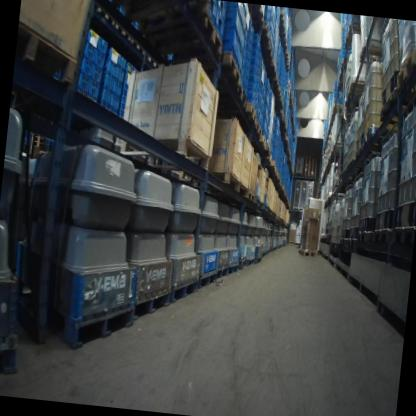pallet: (46, 291, 136, 356), (13, 18, 82, 85), (107, 0, 210, 41), (143, 9, 225, 59), (132, 281, 172, 325), (394, 47, 416, 91), (0, 332, 22, 376), (217, 51, 243, 88), (170, 272, 199, 305), (198, 266, 218, 290), (231, 81, 248, 107), (95, 6, 117, 26), (113, 22, 133, 42), (129, 37, 148, 57), (243, 101, 258, 124), (346, 20, 362, 39), (260, 22, 271, 45), (144, 53, 159, 69), (216, 262, 229, 280), (254, 4, 265, 24), (252, 118, 263, 136), (331, 102, 344, 116), (265, 43, 274, 62), (228, 260, 239, 275), (297, 249, 316, 257), (343, 33, 352, 49), (269, 58, 277, 76), (278, 10, 286, 27), (28, 134, 45, 142), (258, 134, 267, 149), (272, 73, 280, 88), (30, 138, 46, 145), (244, 256, 254, 267), (246, 191, 255, 203), (238, 256, 245, 269), (264, 143, 271, 156), (276, 98, 284, 109), (340, 59, 346, 73), (254, 255, 262, 265), (284, 49, 290, 62), (254, 195, 261, 206), (276, 86, 282, 98), (265, 153, 272, 163), (269, 159, 276, 169), (261, 202, 268, 211), (285, 61, 290, 71), (308, 174, 316, 178), (308, 168, 315, 172), (289, 87, 292, 96), (308, 165, 316, 168), (308, 173, 315, 176), (308, 171, 315, 174), (308, 167, 315, 170), (301, 174, 308, 177), (301, 172, 308, 175), (302, 167, 309, 170), (302, 170, 308, 173), (302, 168, 308, 171)
small_load_carrier: (223, 5, 241, 39), (221, 25, 238, 59), (214, 4, 226, 41), (202, 0, 218, 27), (79, 56, 95, 79), (100, 70, 116, 93), (88, 62, 103, 86), (82, 42, 97, 65), (85, 27, 101, 48), (105, 46, 121, 66), (102, 59, 118, 79), (225, 1, 241, 20), (77, 71, 92, 91), (93, 47, 106, 69), (98, 86, 113, 105), (236, 19, 244, 52), (87, 78, 100, 98), (111, 79, 123, 99), (95, 36, 108, 54), (234, 42, 242, 71), (216, 0, 227, 20), (109, 92, 121, 110), (238, 2, 246, 29), (115, 66, 125, 83), (117, 54, 127, 70), (261, 78, 267, 100), (257, 85, 263, 106), (258, 107, 264, 127), (258, 73, 264, 93), (260, 59, 266, 79), (260, 92, 265, 115), (263, 68, 268, 90), (243, 70, 249, 87), (244, 63, 250, 80), (256, 101, 261, 121), (242, 81, 248, 97), (245, 54, 251, 70), (246, 47, 252, 63), (242, 3, 246, 10)
